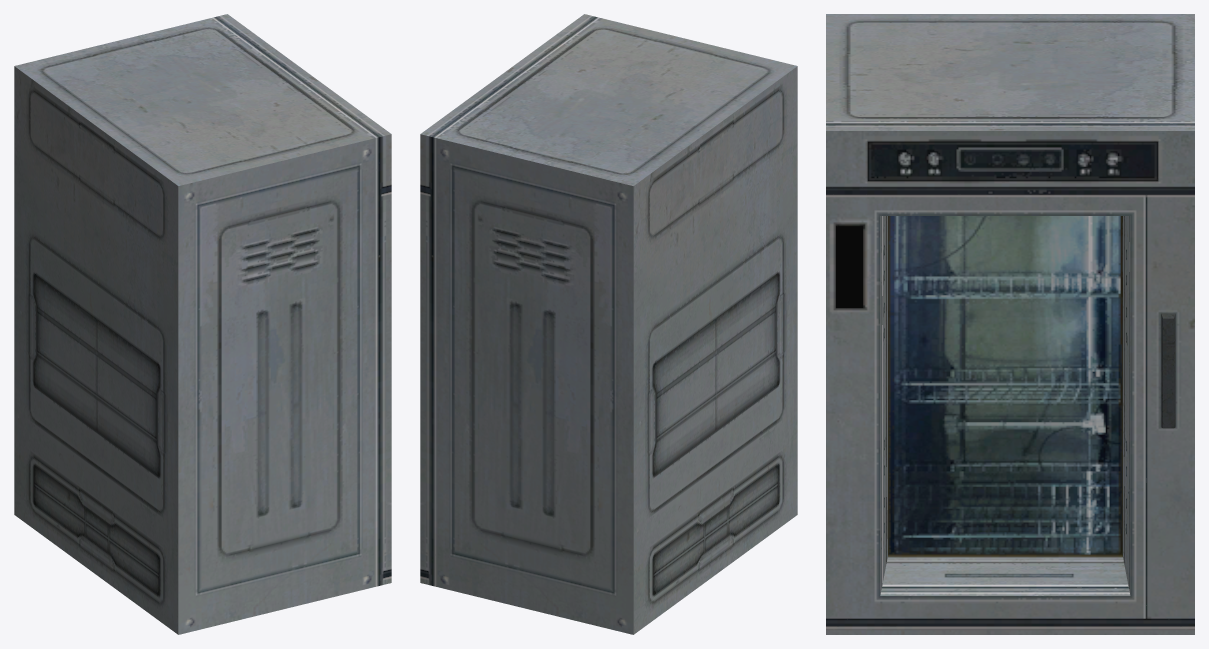
File: Building_Kitchencabinet02.glb
The picture shows the model from 3 angles, left to right: view 1: azimuth 30°, elevation 25°; view 2: azimuth 150°, elevation 25°; view 3: azimuth 270°, elevation 25°; orthographic projection. The views are drawn at different scales.
Visible parts, largest first — view 1: xiutz_kitchencabinet_02; view 2: xiutz_kitchencabinet_02; view 3: xiutz_kitchencabinet_02.
Boxes of the visible parts, box(x1,y1,x2,y2) form: xiutz_kitchencabinet_02: box(14, 14, 391, 634); xiutz_kitchencabinet_02: box(420, 14, 797, 634); xiutz_kitchencabinet_02: box(826, 14, 1194, 634).
Size of the model in its own units: 0.6158 by 1.21 by 0.8.
1 material, 1 textured.
